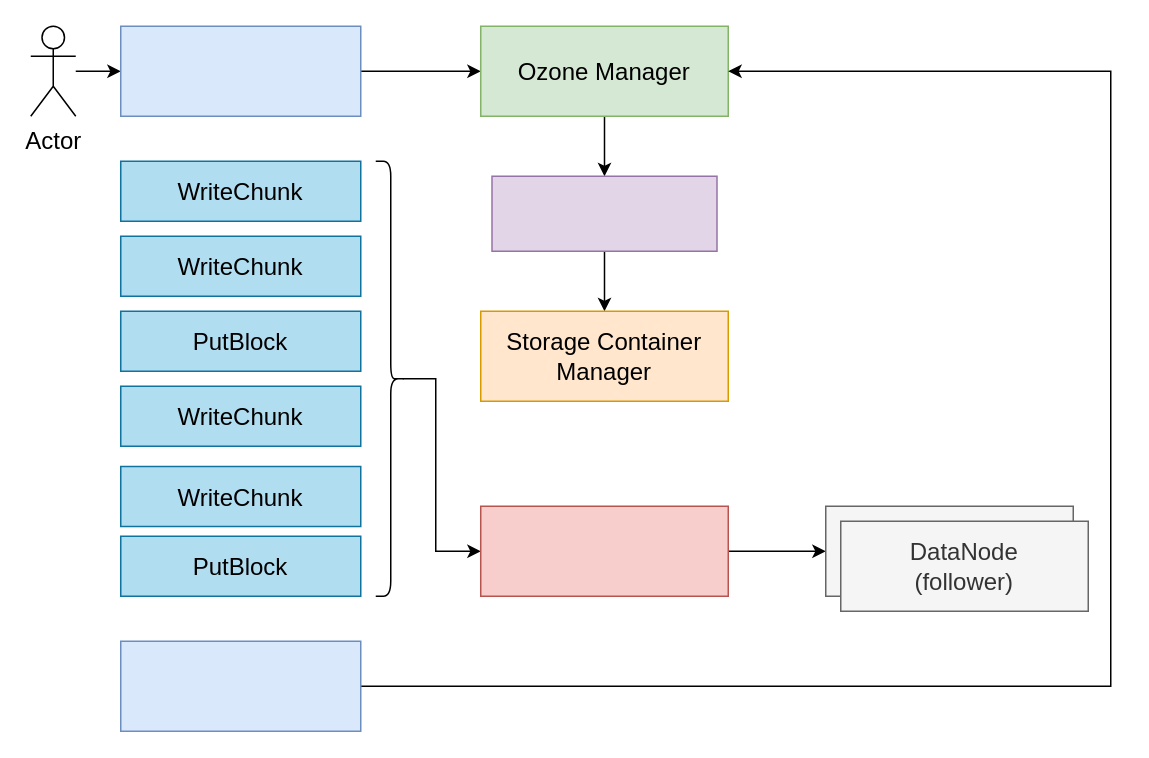
Some shapes in this 1149 by 758 pixel diagram are drawn without their labels. The shapes that lost their labels are listed below. From the top down, each one's centre as x and y in pixels, then its label:
point 240,70: CreateFile
point 603,213: AllocateBlock
point 603,550: DataNode (leader)
point 240,685: CompleteFile
